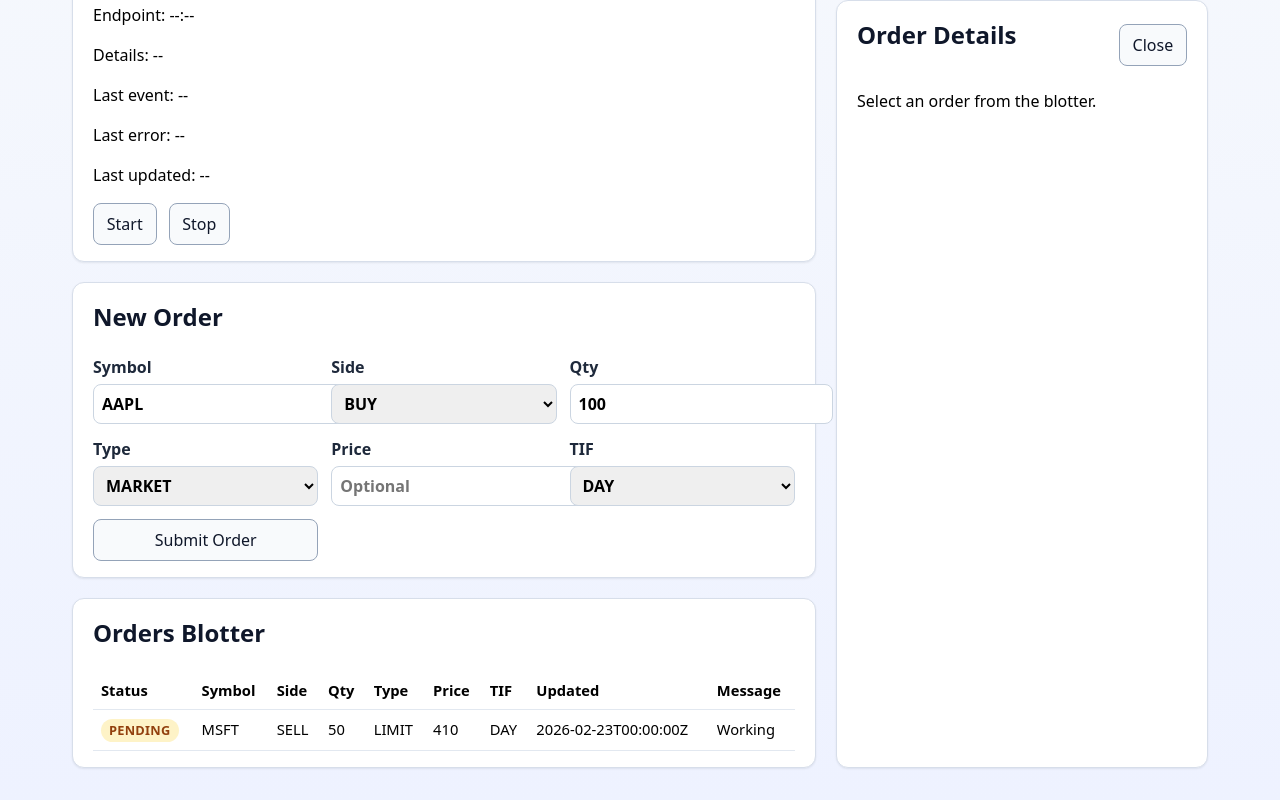
Scenario: App › loads order details when a blotter row is clicked
(page scrolled)
Click the button "PENDING": (140, 730) [101,718,178,742]
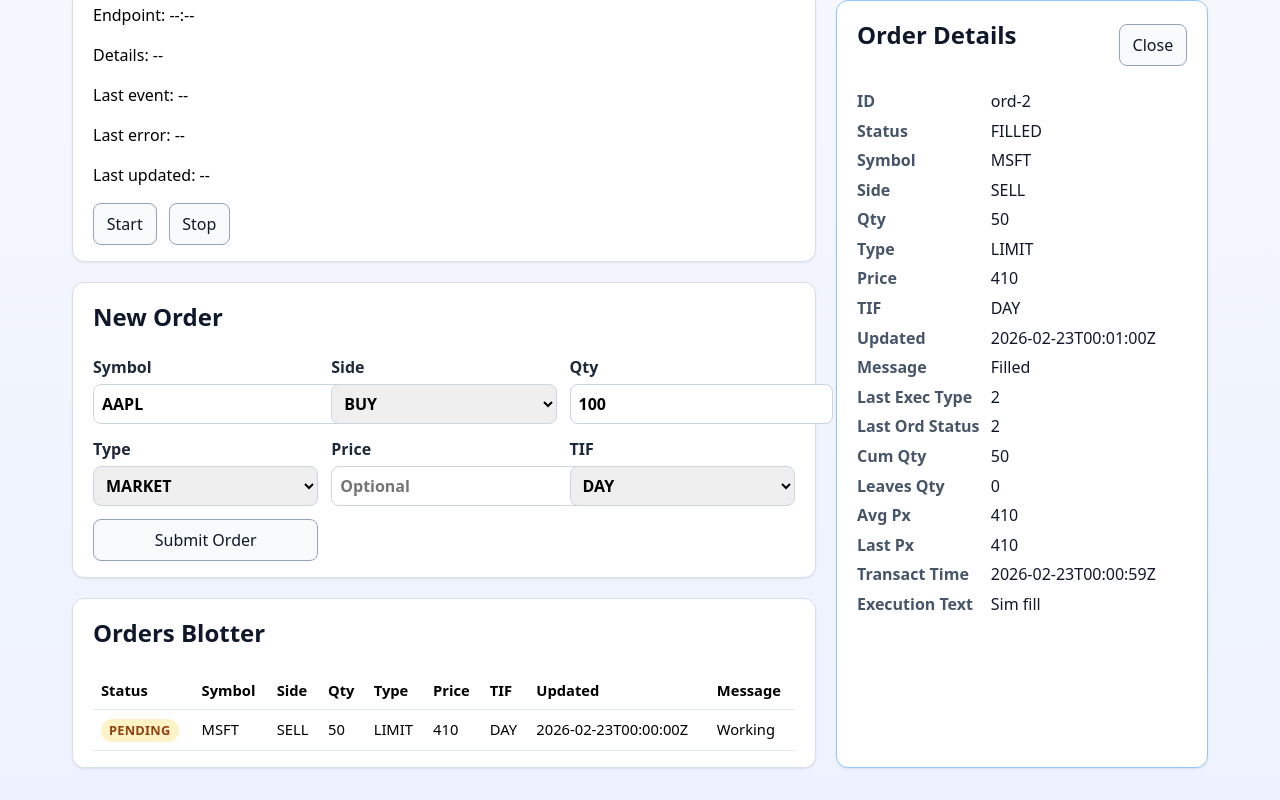
Check: the text "FILLED" is shown, box [991,120,1042,142]
Check: the text "Last Exec Type" is shown, box [857,385,980,409]
Check: the text "Sim fill" is shown, box [991,593,1041,615]
